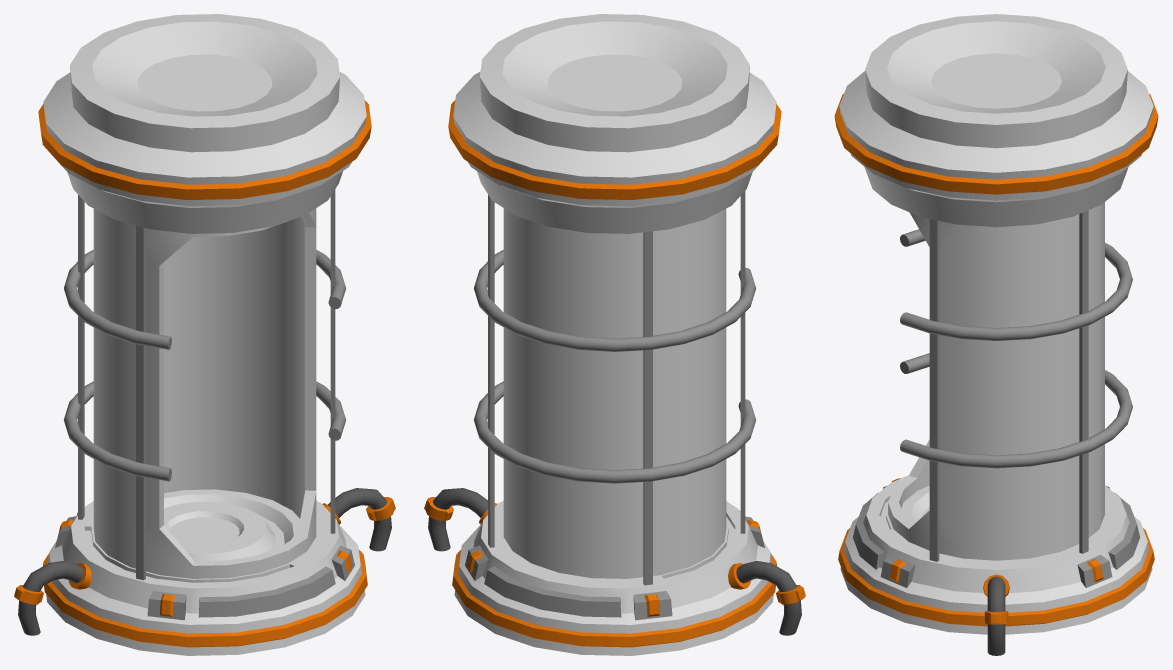
The model's file is Reservoir.fbx.
3 views of the same model, side by side, from view 1: azimuth 30°, elevation 25°; view 2: azimuth 150°, elevation 25°; view 3: azimuth 270°, elevation 25° (orthographic). The views are drawn at different scales.
Parts seen in each view (by area): view 1: polySurface157; view 2: polySurface157; view 3: polySurface157.
Boxes of the visible parts, x1,y1,x2,y2 form: polySurface157: [14, 14, 395, 655]; polySurface157: [424, 14, 805, 655]; polySurface157: [834, 14, 1158, 655].
Size of the model in its own units: 195 by 150 by 256.
